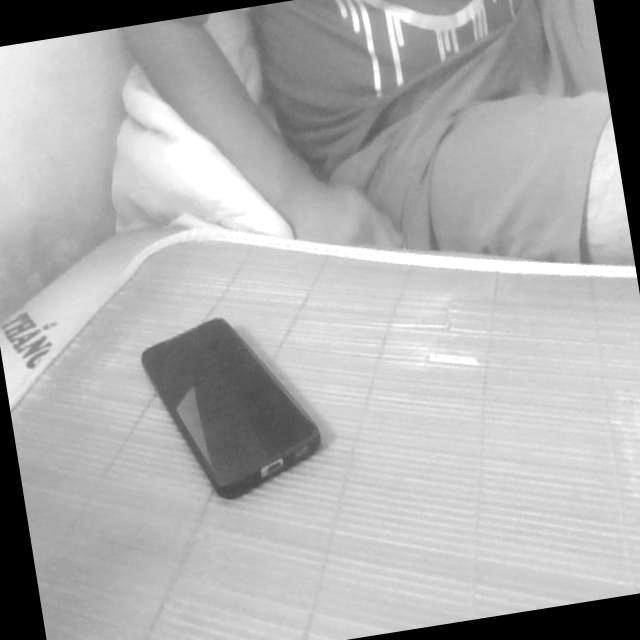phone: (120, 290, 350, 528)
